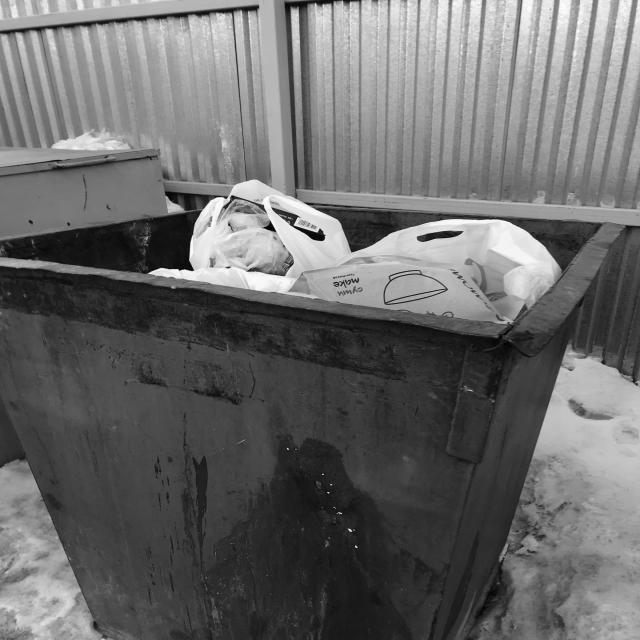bin: (0, 226, 628, 640), (311, 203, 601, 266), (0, 210, 201, 274)
trash: (148, 180, 563, 325)
